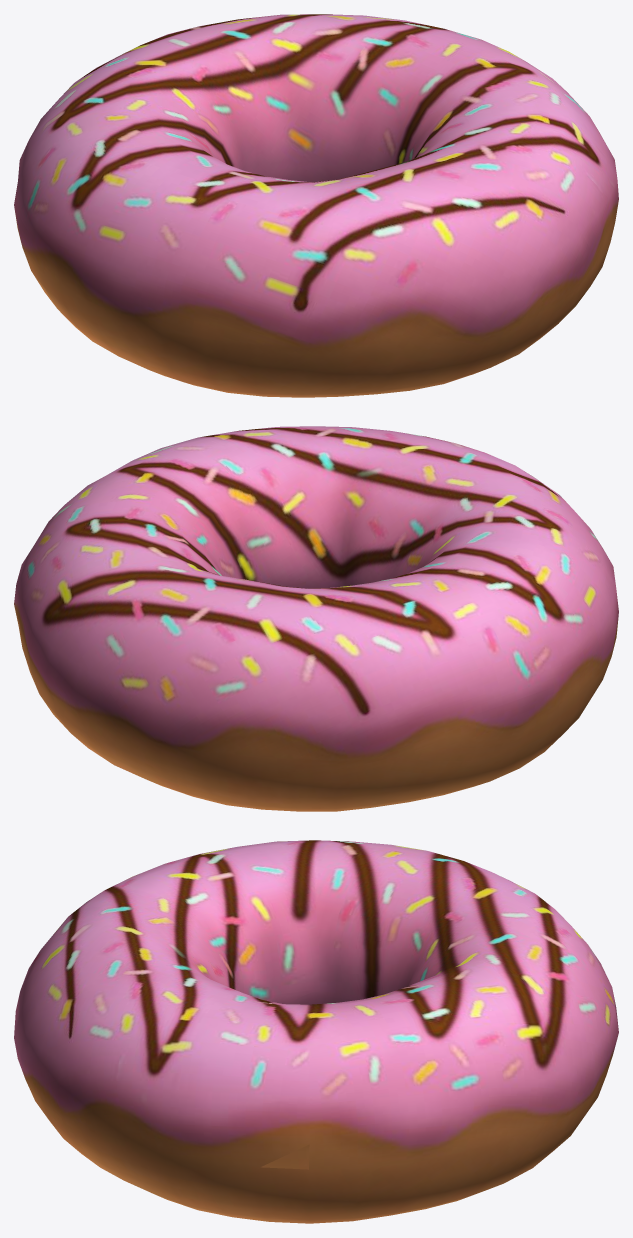
Rendered from OBS0110267.fbx.
3 renders of one model, top to bottom at view 1: azimuth 30°, elevation 25°; view 2: azimuth 150°, elevation 25°; view 3: azimuth 270°, elevation 25°, orthographic.
Parts seen in each view (by area): view 1: smOBS0110267; view 2: smOBS0110267; view 3: smOBS0110267.
Part boxes in pixels (x1=…): smOBS0110267: x1=14, y1=14, x2=618, y2=397; smOBS0110267: x1=14, y1=426, x2=618, y2=811; smOBS0110267: x1=14, y1=840, x2=618, y2=1223.
Size of the model in its own units: 50.65 by 19.23 by 51.42.
Materials: 1 (1 with a texture image).
